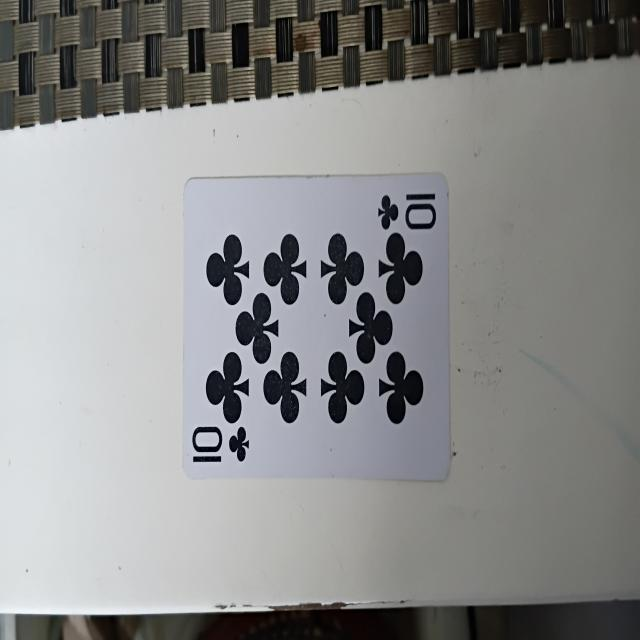10C: (180, 167, 454, 486)
